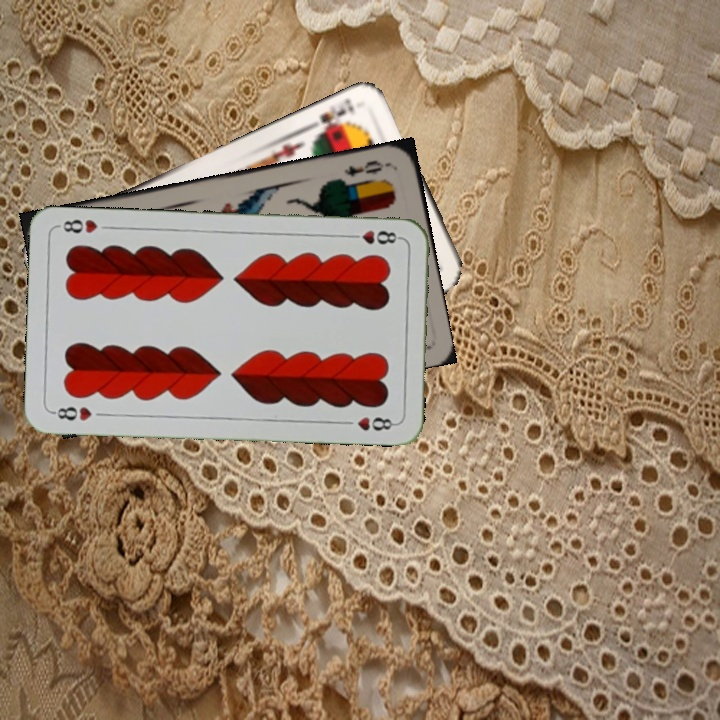EO: (340, 156, 392, 180)
H8: (344, 226, 403, 247), (48, 402, 95, 423)
SK: (312, 94, 357, 138)
